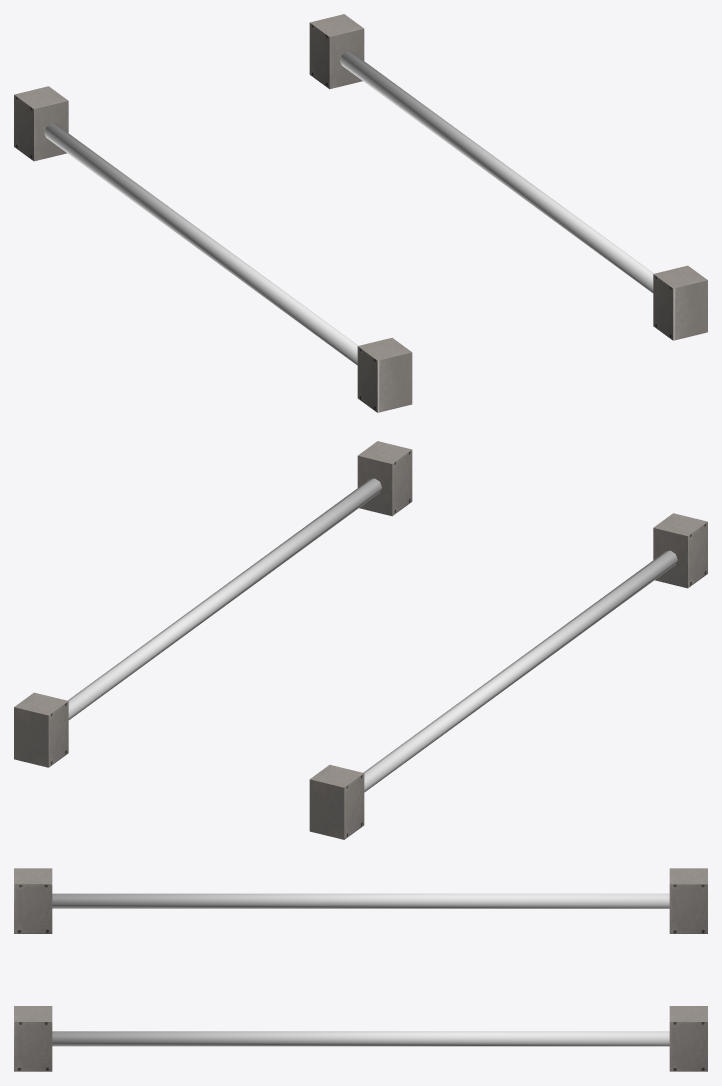
The model's file is GantryBase.fbx.
3 renders of one model, top to bottom at view 1: azimuth 30°, elevation 25°; view 2: azimuth 150°, elevation 25°; view 3: azimuth 270°, elevation 25°, orthographic. The views are drawn at different scales.
Parts seen in each view (by area): view 1: Gantry Left, Gantry Right; view 2: Gantry Left, Gantry Right; view 3: Gantry Left, Gantry Right.
Boxes of the visible parts, x1=… form: Gantry Left: x1=14, y1=86, x2=412, y2=412; Gantry Right: x1=309, y1=14, x2=707, y2=340; Gantry Left: x1=309, y1=513, x2=707, y2=839; Gantry Right: x1=14, y1=441, x2=412, y2=767; Gantry Left: x1=14, y1=868, x2=707, y2=933; Gantry Right: x1=14, y1=1006, x2=707, y2=1071.
Size of the model in its own units: 134 by 20.28 by 256.
